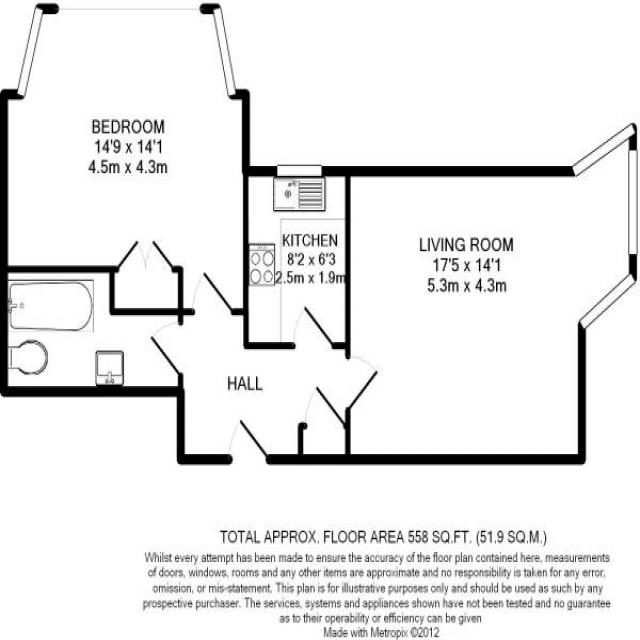DOOR: (227, 417, 269, 467), (344, 354, 380, 412), (191, 269, 233, 317), (304, 382, 346, 430), (292, 304, 334, 351), (149, 321, 184, 376)
DOUBLE DOOR: (116, 237, 174, 273)
ROOM: (344, 122, 638, 467), (0, 3, 250, 316), (241, 164, 351, 350)
WINDOW: (570, 121, 638, 178), (578, 271, 637, 331), (14, 2, 45, 100), (211, 3, 238, 101), (628, 149, 638, 256), (277, 164, 323, 179)
